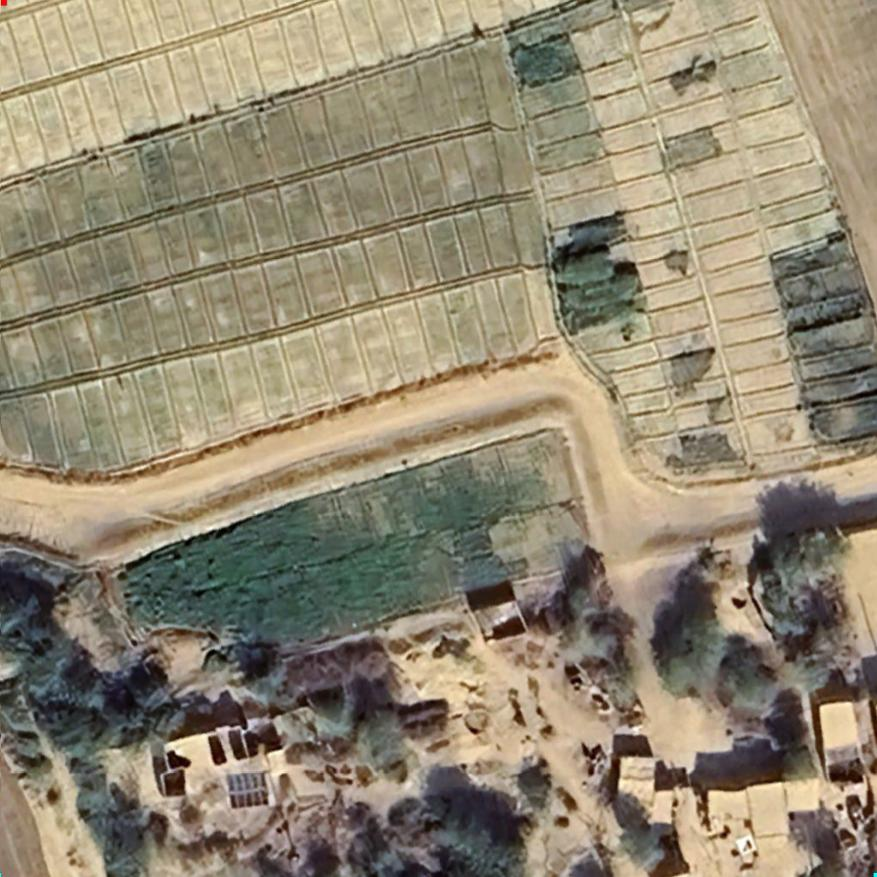Solarpanel: (223, 769, 272, 815)
